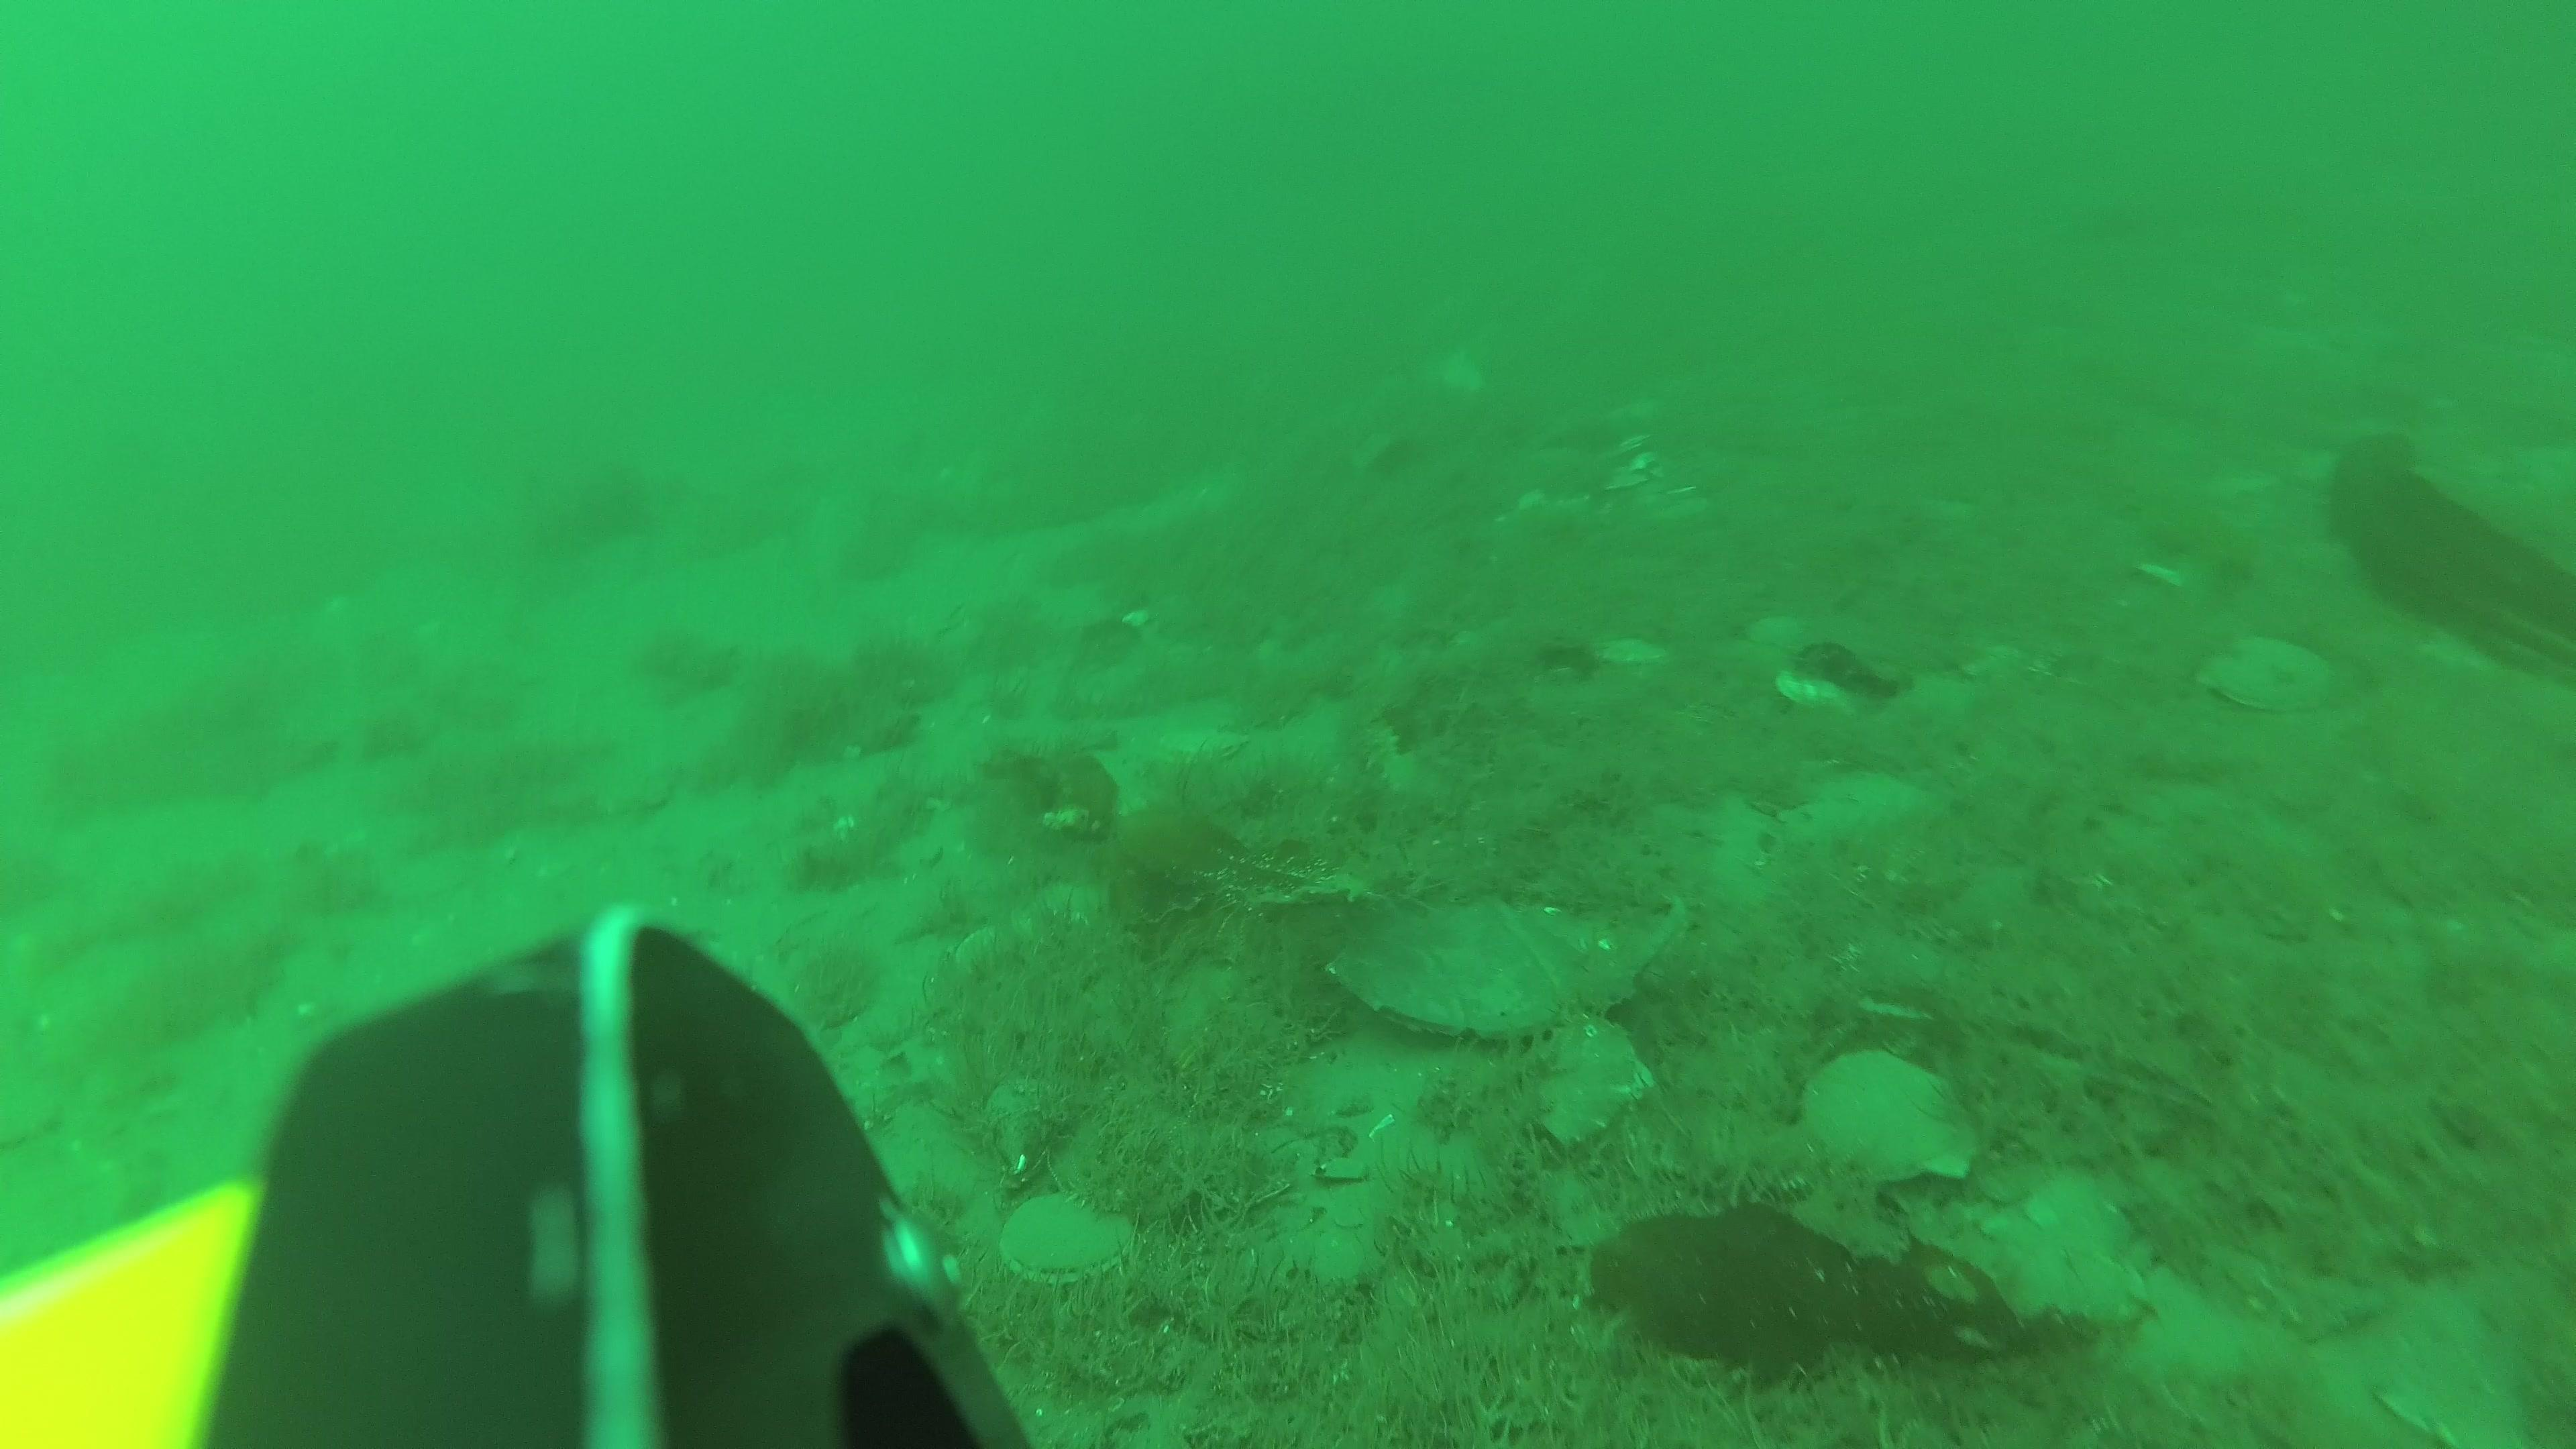scallop: (1805, 1044, 1974, 1182), (1527, 1012, 1649, 1145), (1000, 1191, 1131, 1286), (2201, 632, 2330, 718), (1771, 663, 1856, 718)
